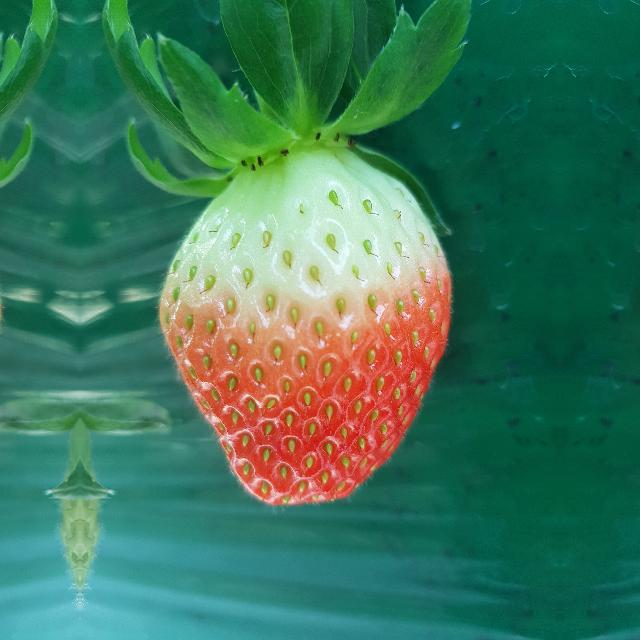Health_50: (155, 153, 455, 512)
